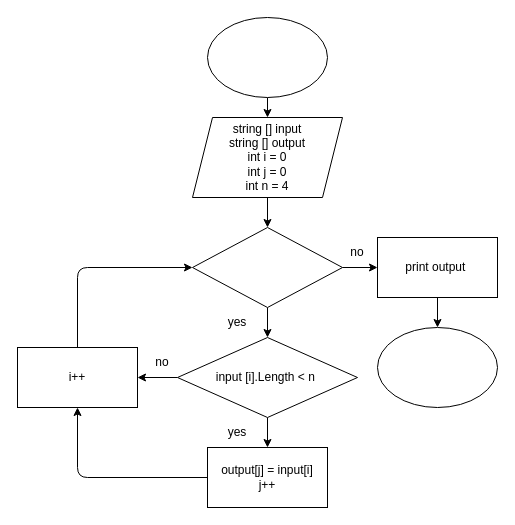
This 515x525 diagram has some shape labels left out. The centre of each missing label's shape, as x and y in pixels:
End: (x=437, y=367)
i < input.Length: (x=267, y=267)
Start: (x=267, y=57)
